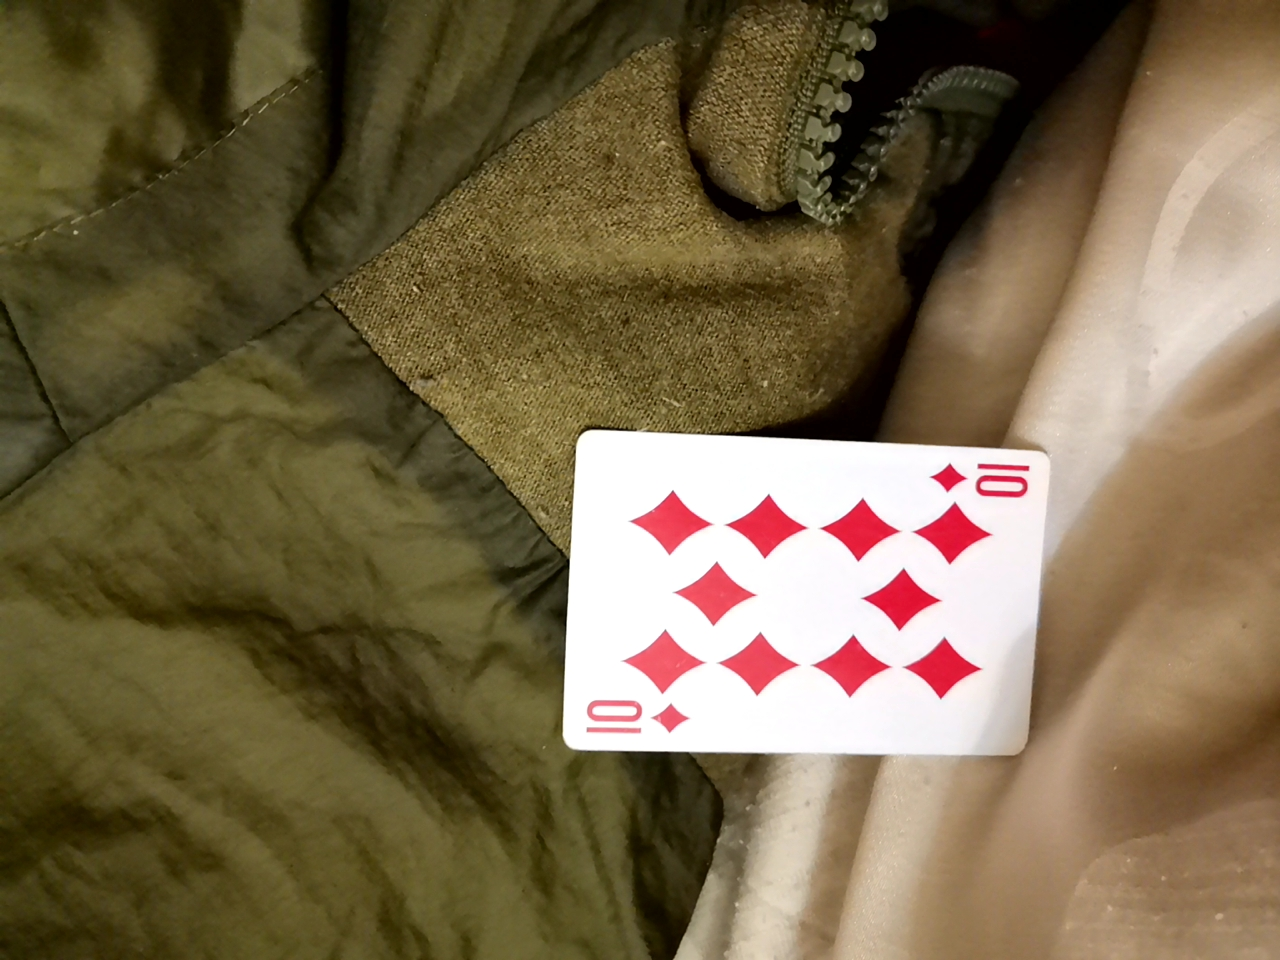fk 10: (569, 442, 1061, 763)
